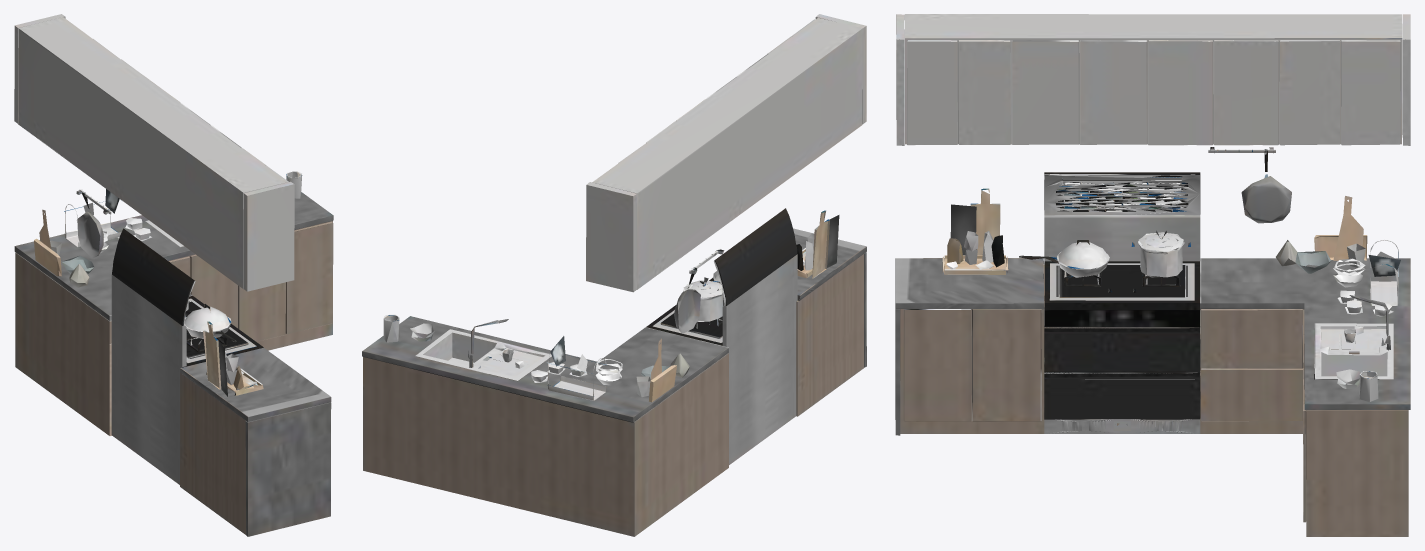
Rendered from Kitchen0001.obj.
3 views of the same model, side by side, from view 1: azimuth 30°, elevation 25°; view 2: azimuth 150°, elevation 25°; view 3: azimuth 270°, elevation 25° (orthographic). The views are drawn at different scales.
Bounding box in the file's own units: 2.03 × 2.44 × 3.02.
Materials: 1 (1 with a texture image).
